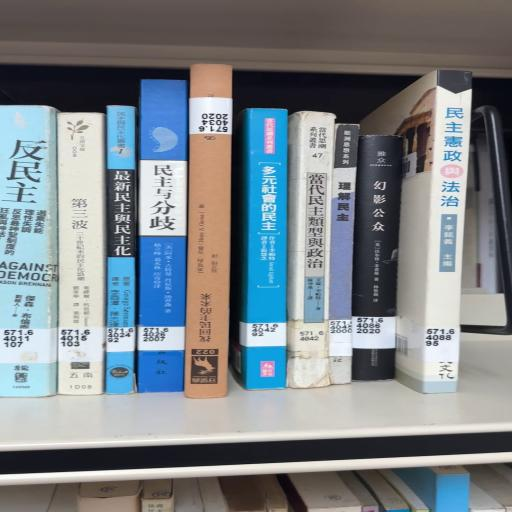book: (360, 70, 471, 393), (0, 105, 58, 397), (230, 108, 288, 390), (137, 79, 188, 392), (286, 111, 336, 388), (57, 113, 106, 395), (351, 135, 402, 382), (105, 105, 137, 394), (329, 124, 359, 384), (14, 111, 28, 128)
reverse: (184, 64, 232, 398)
